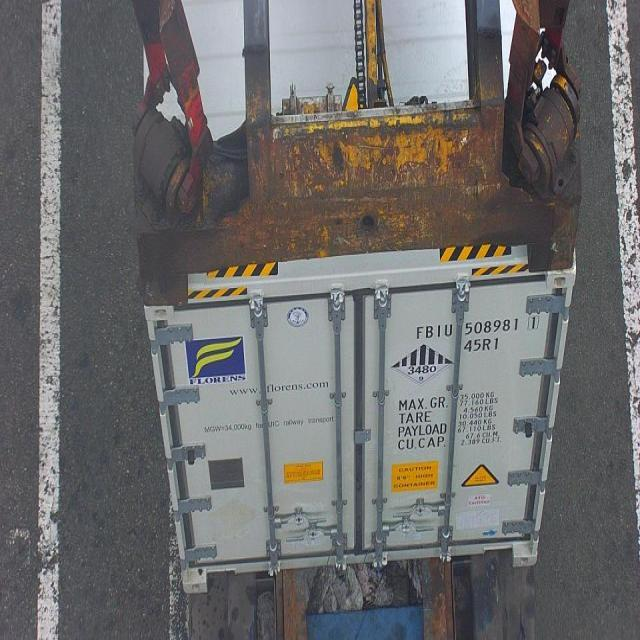ISO: (465, 335, 498, 352)
container_number: (416, 308, 541, 342)
